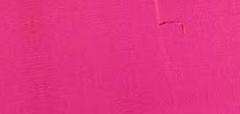snag: (155, 16, 193, 37)
